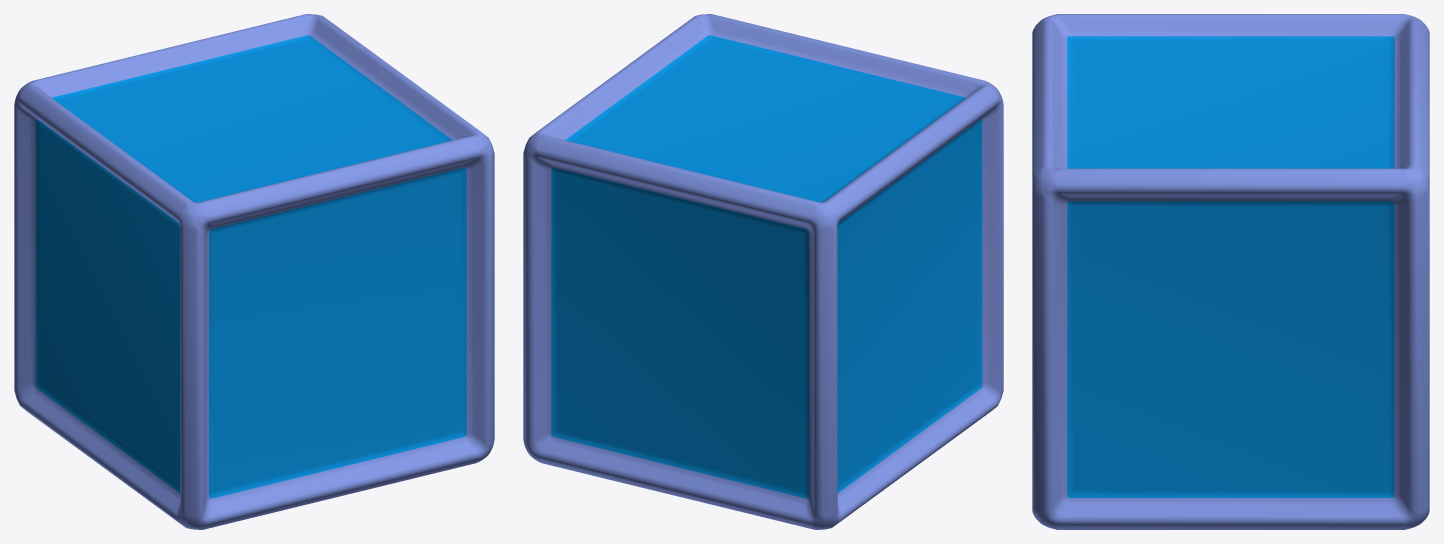
3 views of the same model, side by side, from view 1: azimuth 30°, elevation 25°; view 2: azimuth 150°, elevation 25°; view 3: azimuth 270°, elevation 25° (orthographic). The views are drawn at different scales.
Parts seen in each view (by area): view 1: Cube; view 2: Cube; view 3: Cube.
Boxes of the visible parts, x1=… form: Cube: x1=14, y1=14, x2=494, y2=529; Cube: x1=523, y1=14, x2=1003, y2=529; Cube: x1=1032, y1=14, x2=1429, y2=529.
Size of the model in its own units: 197 by 197 by 197.
